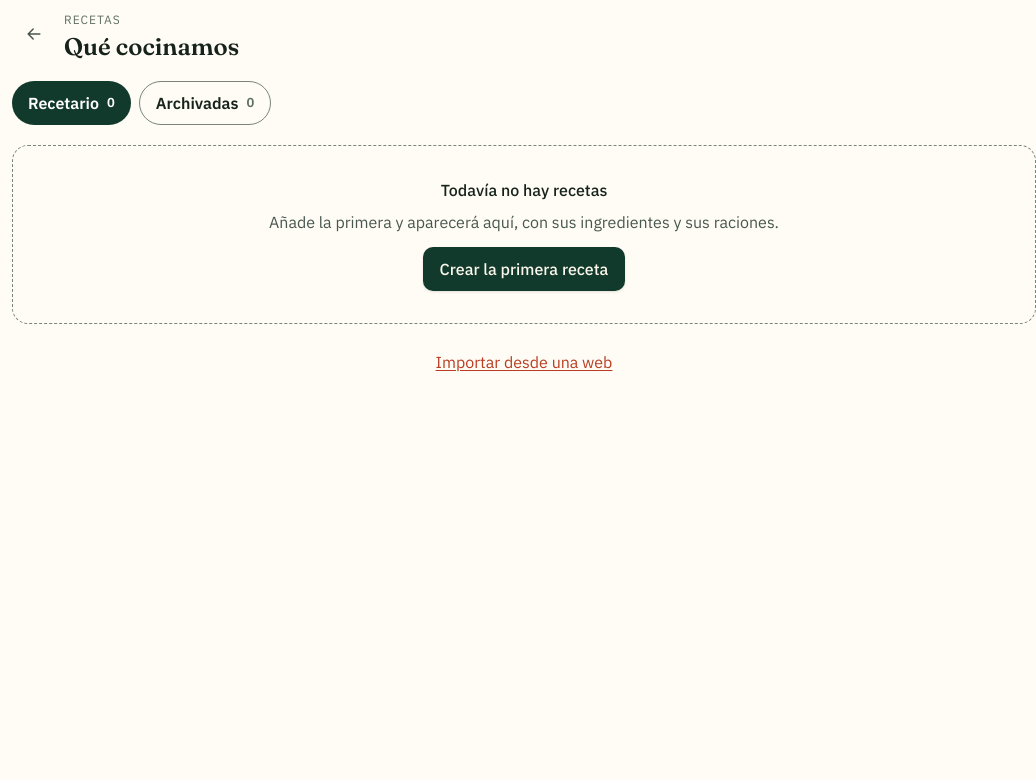
it: Recetario · crear y archivar › *** sin recetas, el vacio ofrece crearla y no enseña tarjetas ***
The width and height of the screenshot is (1036, 780).
Check: the text "Todavía no hay recetas" is shown, box top-left (441, 180), bottom-right (607, 200)
Click the button "Crear la primera receta" at (524, 269), box top-left (423, 247), bottom-right (625, 291)
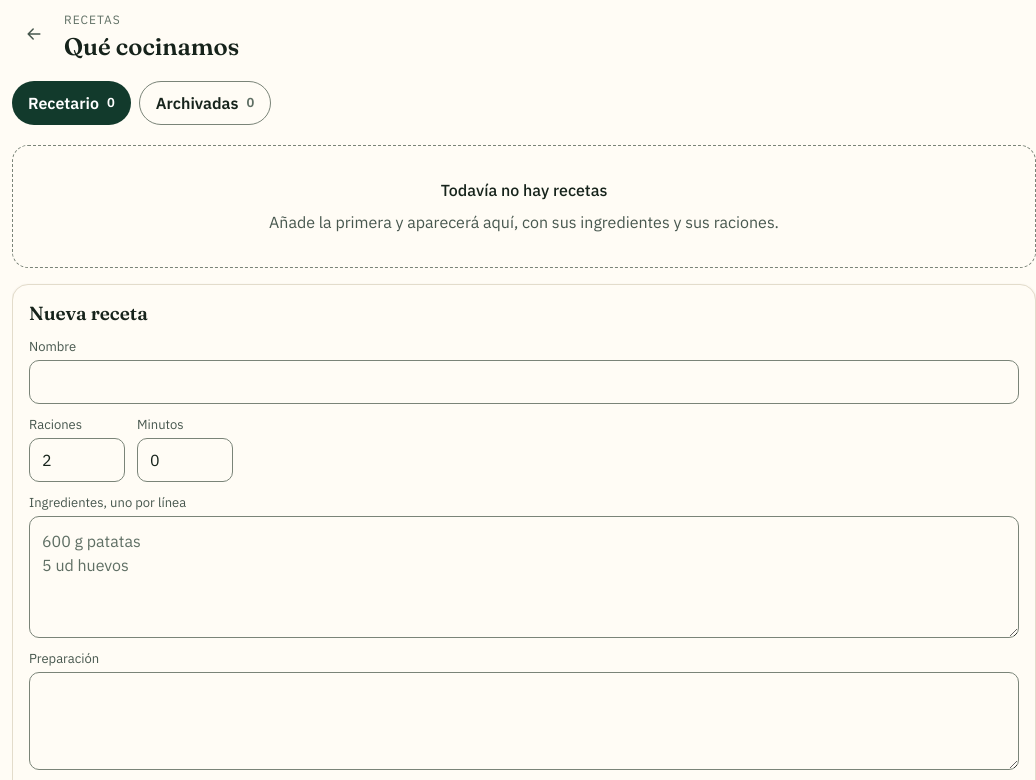
Check: the heading "Nueva receta" is shown, box top-left (29, 301), bottom-right (148, 325)
